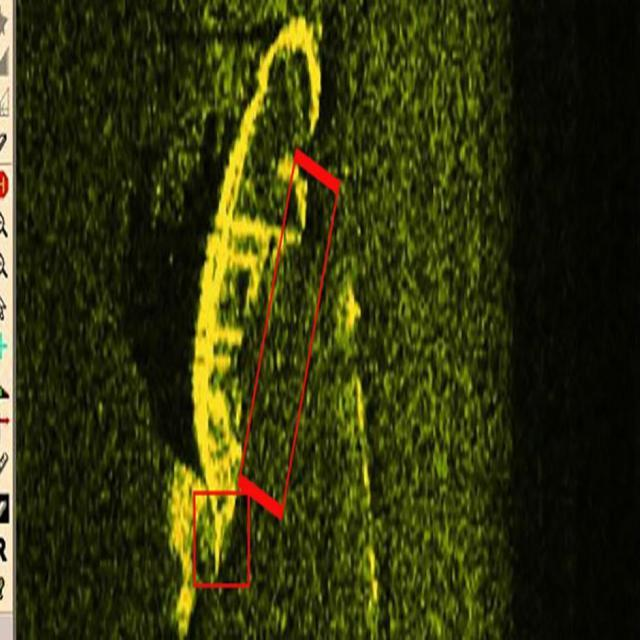shipwreck: (193, 9, 320, 575)
